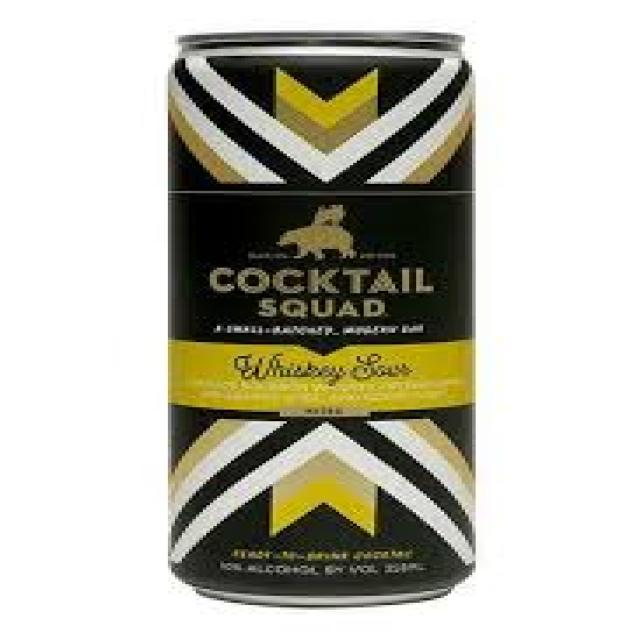Cans: (150, 21, 493, 614)
